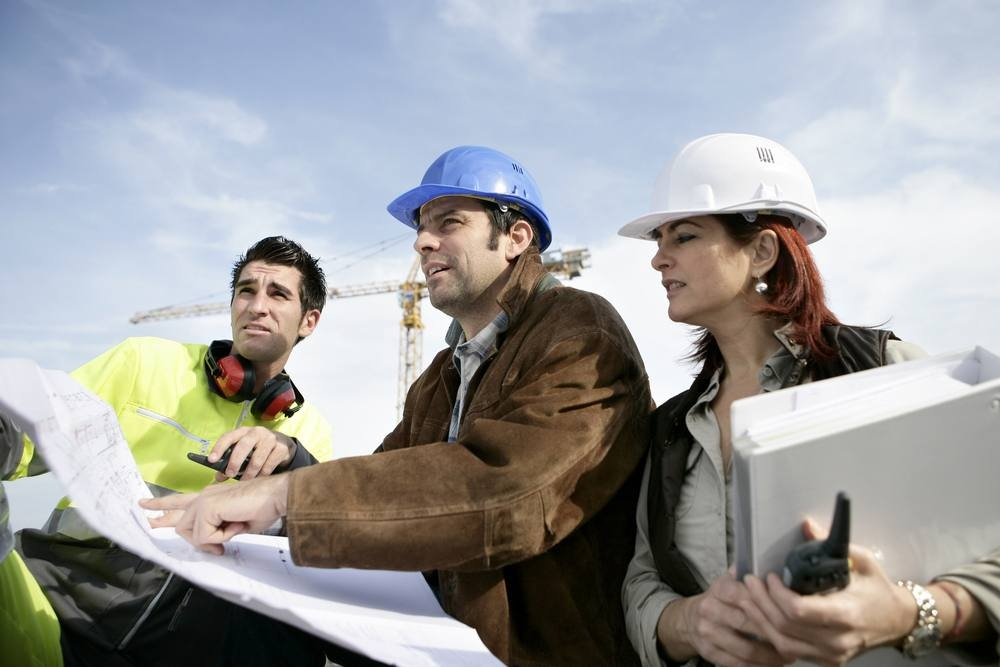blue: (409, 144, 547, 305)
none: (229, 235, 322, 367)
white: (652, 133, 824, 334)
